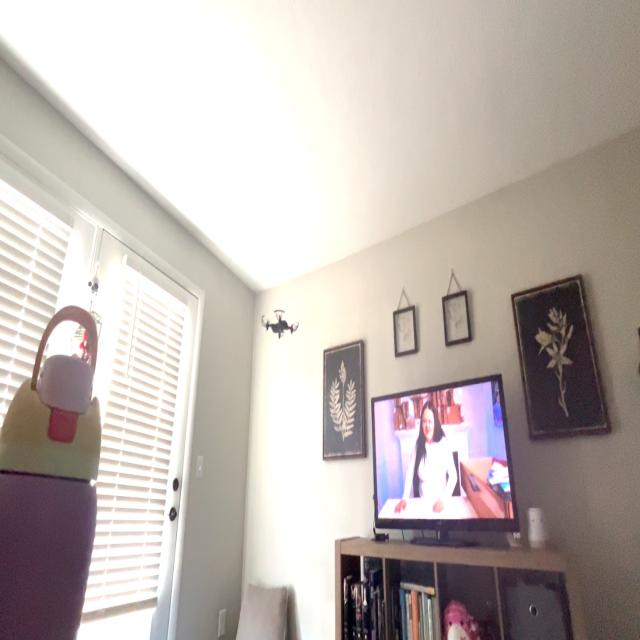drone: (257, 284, 302, 362)
